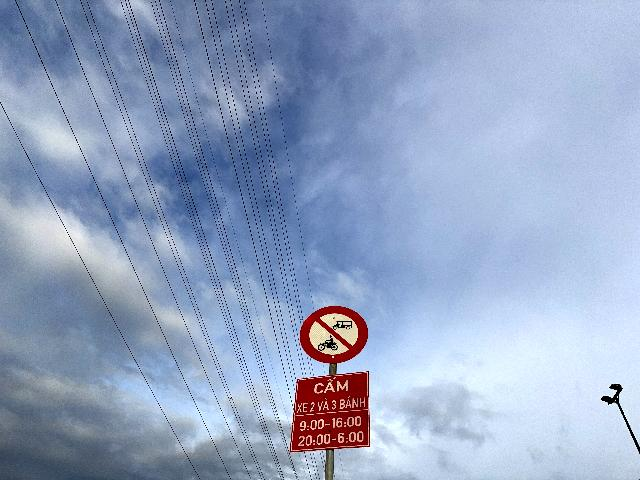cam-xe-2-banh-3-banh: (300, 305, 368, 364)
